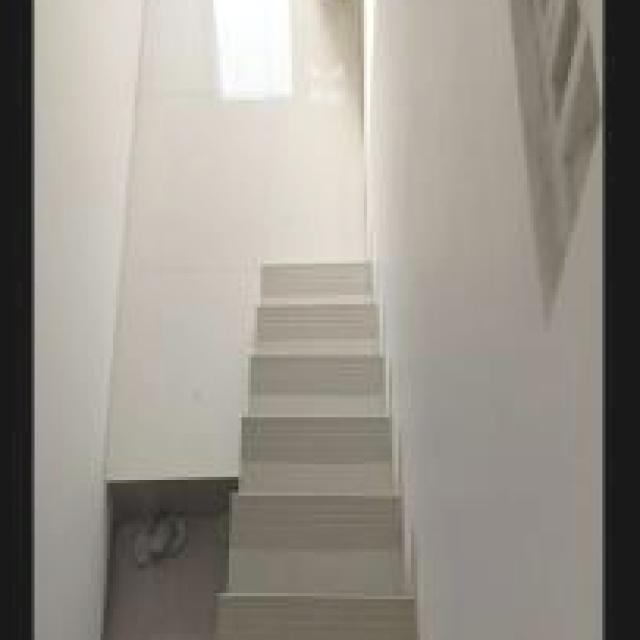downstair: (220, 242, 424, 640)
